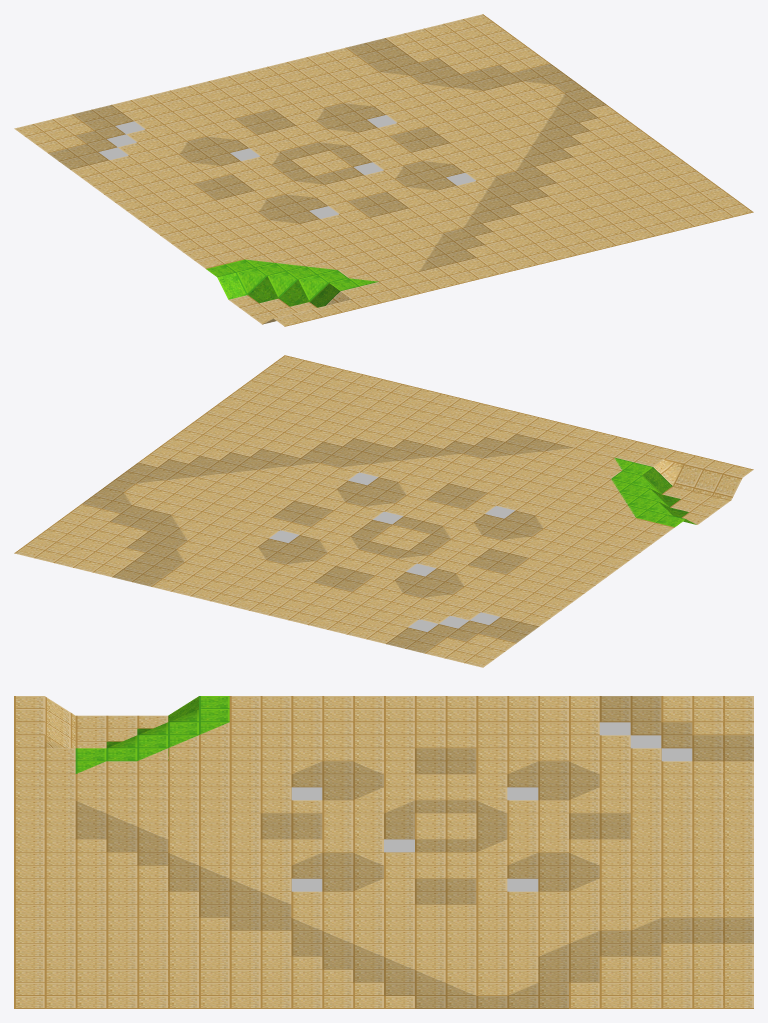
Rendered from FloorCorner_4.obj.
3 views of the same model, one above another, from view 1: azimuth 30°, elevation 25°; view 2: azimuth 150°, elevation 25°; view 3: azimuth 270°, elevation 25° (orthographic). The views are drawn at different scales.
Parts seen in each view (by area): view 1: FloorCorner_4; view 2: FloorCorner_4; view 3: FloorCorner_4.
Boxes of the visible parts, left/top/right/bottom form: FloorCorner_4: left=14, top=14, right=753, bottom=326; FloorCorner_4: left=14, top=355, right=753, bottom=667; FloorCorner_4: left=14, top=696, right=753, bottom=1008.
Size of the model in its own units: 24 by 0.6972 by 24.
